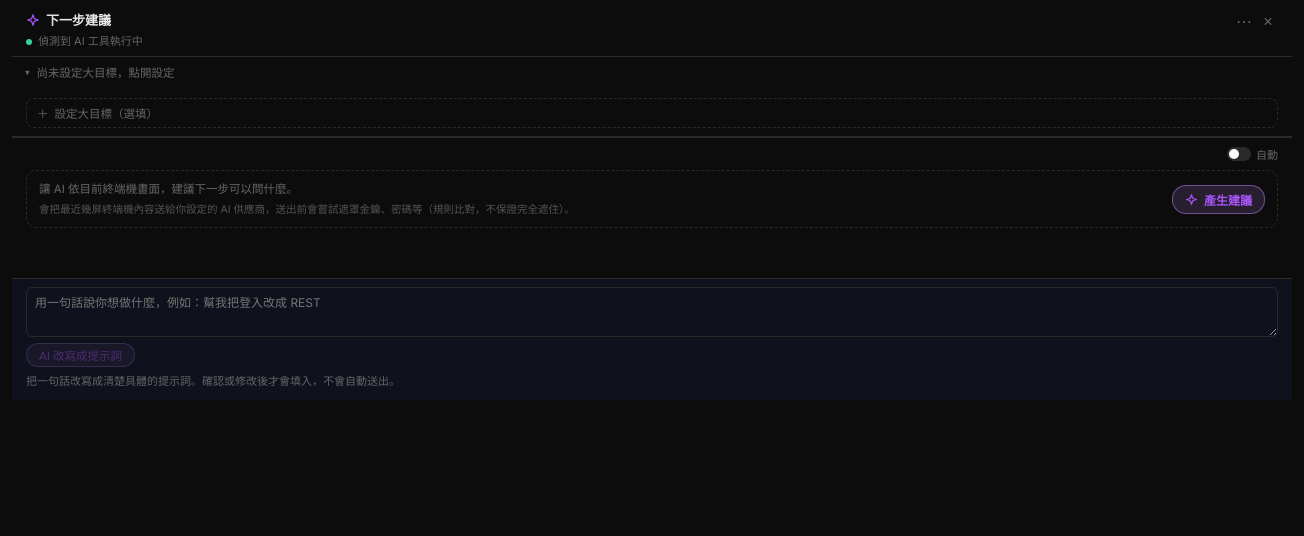
SuggestionSidebar › AI polish of the goal › replaces the draft with the polished text on a separate stream id, without saving it
The width and height of the screenshot is (1304, 536).
Click the button "＋ 設定大目標（選填）". click: (106, 114)
box: top-left (26, 98), bottom-right (1278, 128)
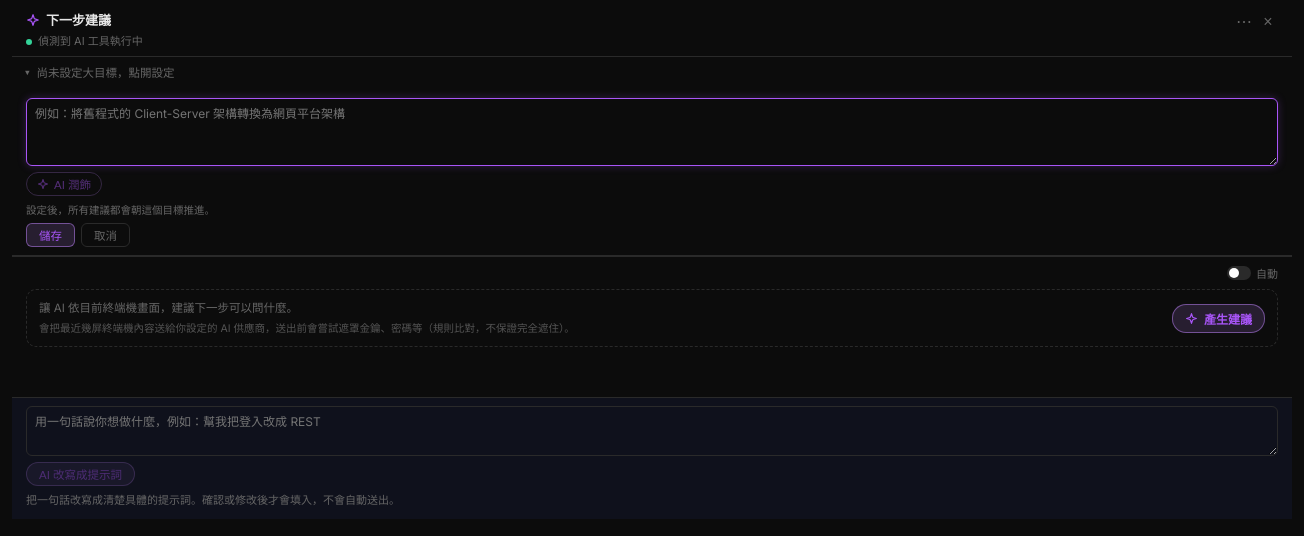
Type "轉成網頁版" into the text box named "大目標". click: (652, 132)
box: top-left (26, 98), bottom-right (1278, 166)
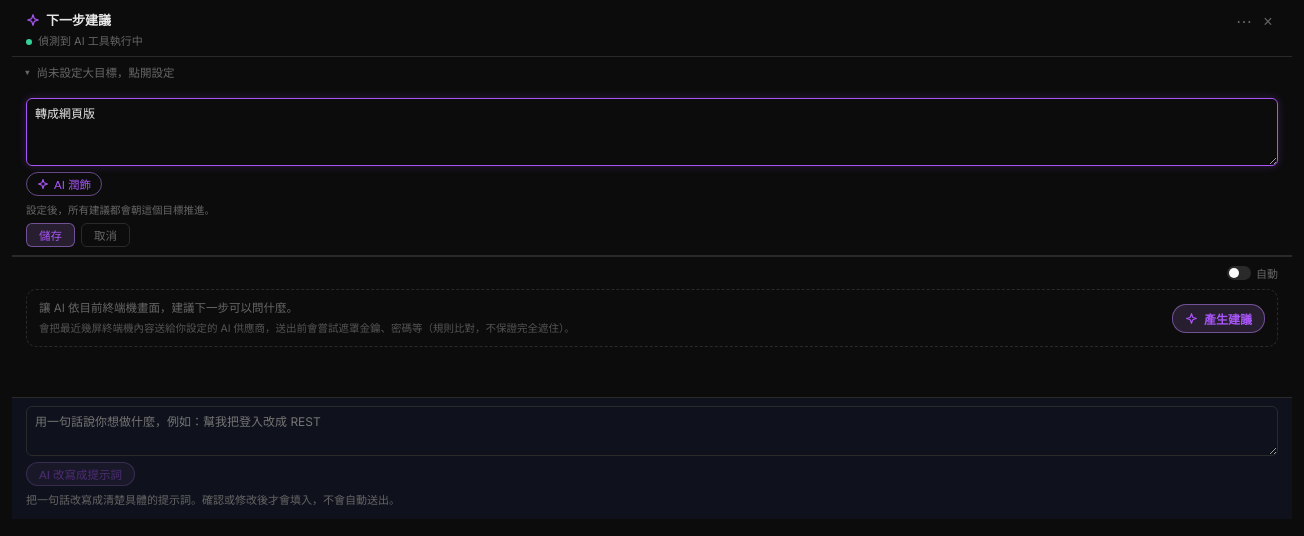
Click the button "AI 潤飾". click: (64, 184)
box: top-left (26, 172), bottom-right (102, 196)
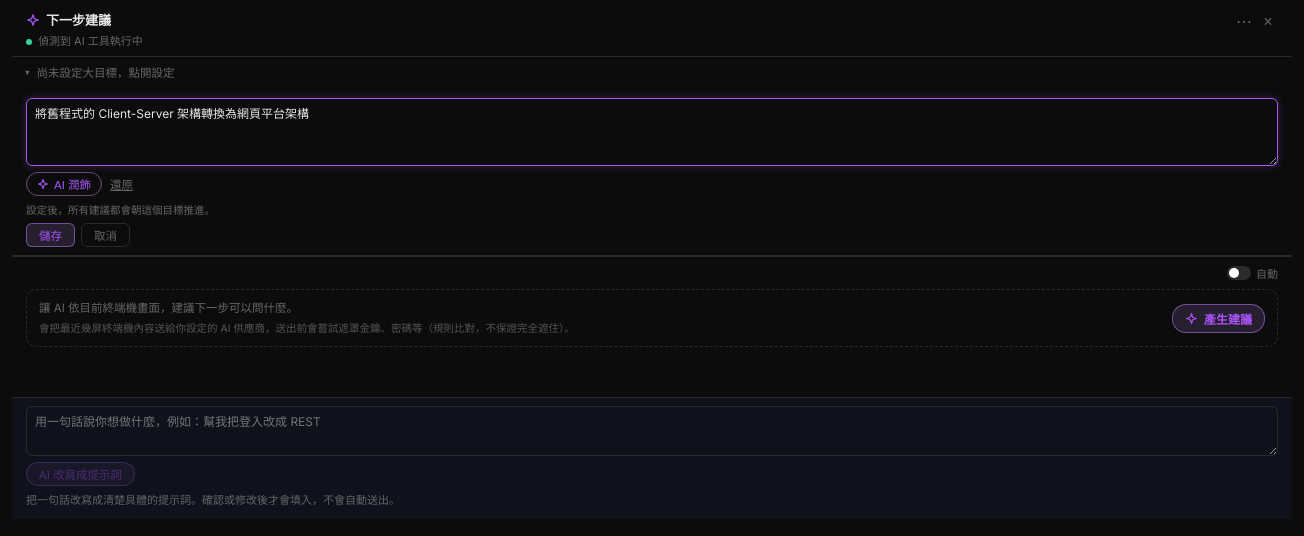
Result: the text box named "大目標" holds "將舊程式的 Client-Server 架構轉換為網頁平台架構" at top-left (26, 98), bottom-right (1278, 166)
